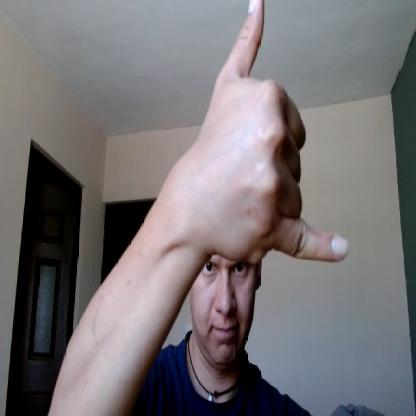Y: (211, 0, 354, 257)
